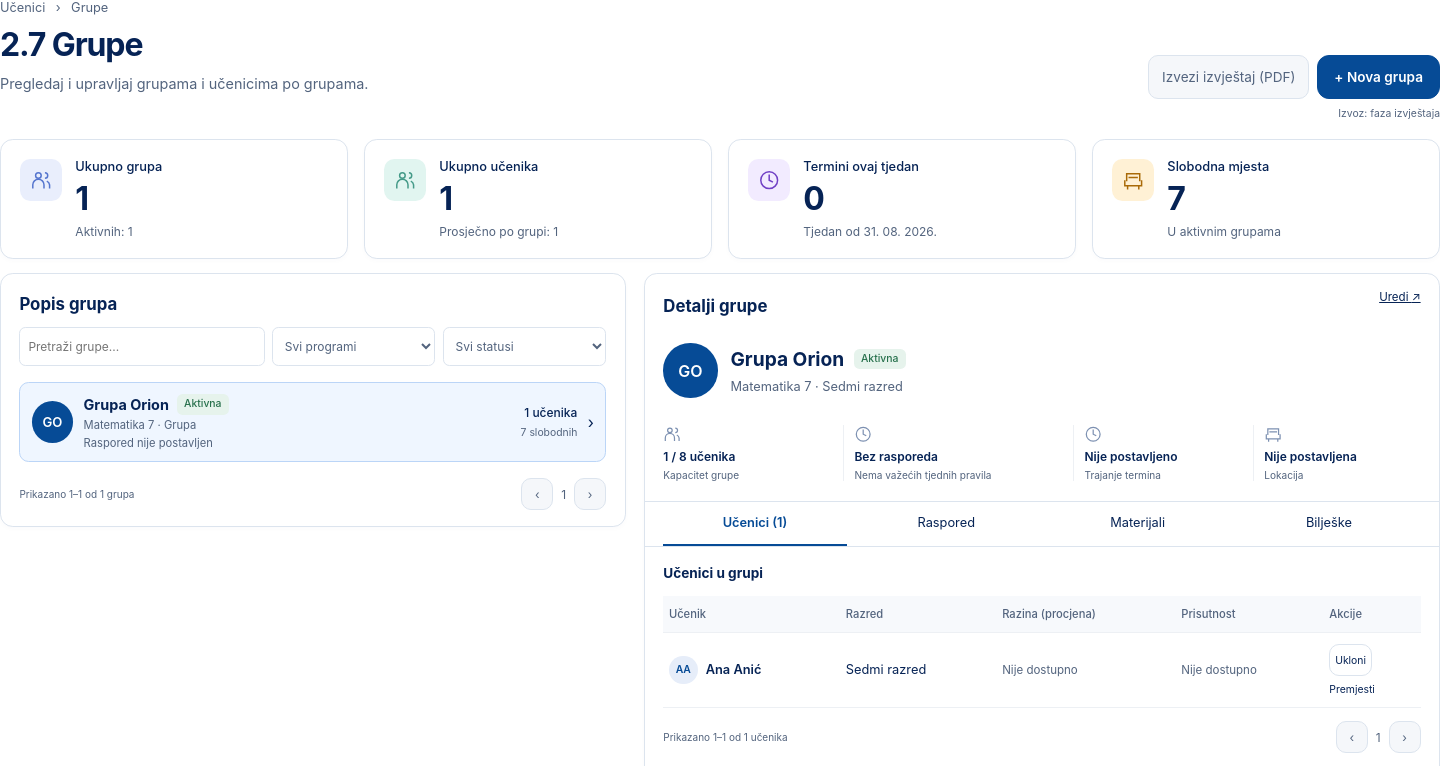
Test case: group screen › renders canonical regions, neutral metrics and existing dossier/edit links
Expected: the heading "2.7 Grupe" is shown, [0,25,142,64]
Expected: the heading "Popis grupa" is shown, [19,294,117,314]
Click the tab "Raspored": (946,524) [855,502,1038,546]
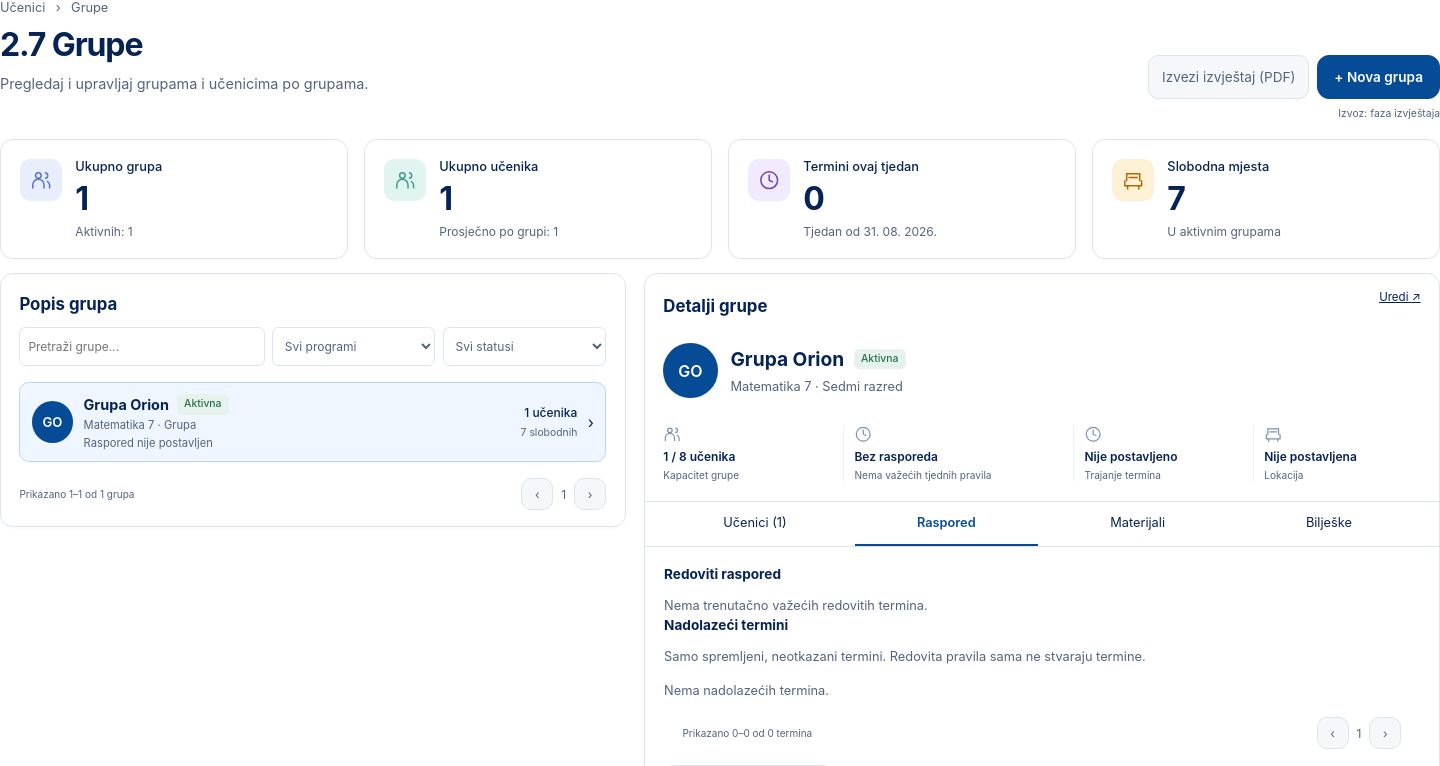
Expected: the text "Nema nadolazećih termina." is shown, [664,683,829,698]
Press ArrowRight in the tab "Raspored", box [855,502,1038,546]
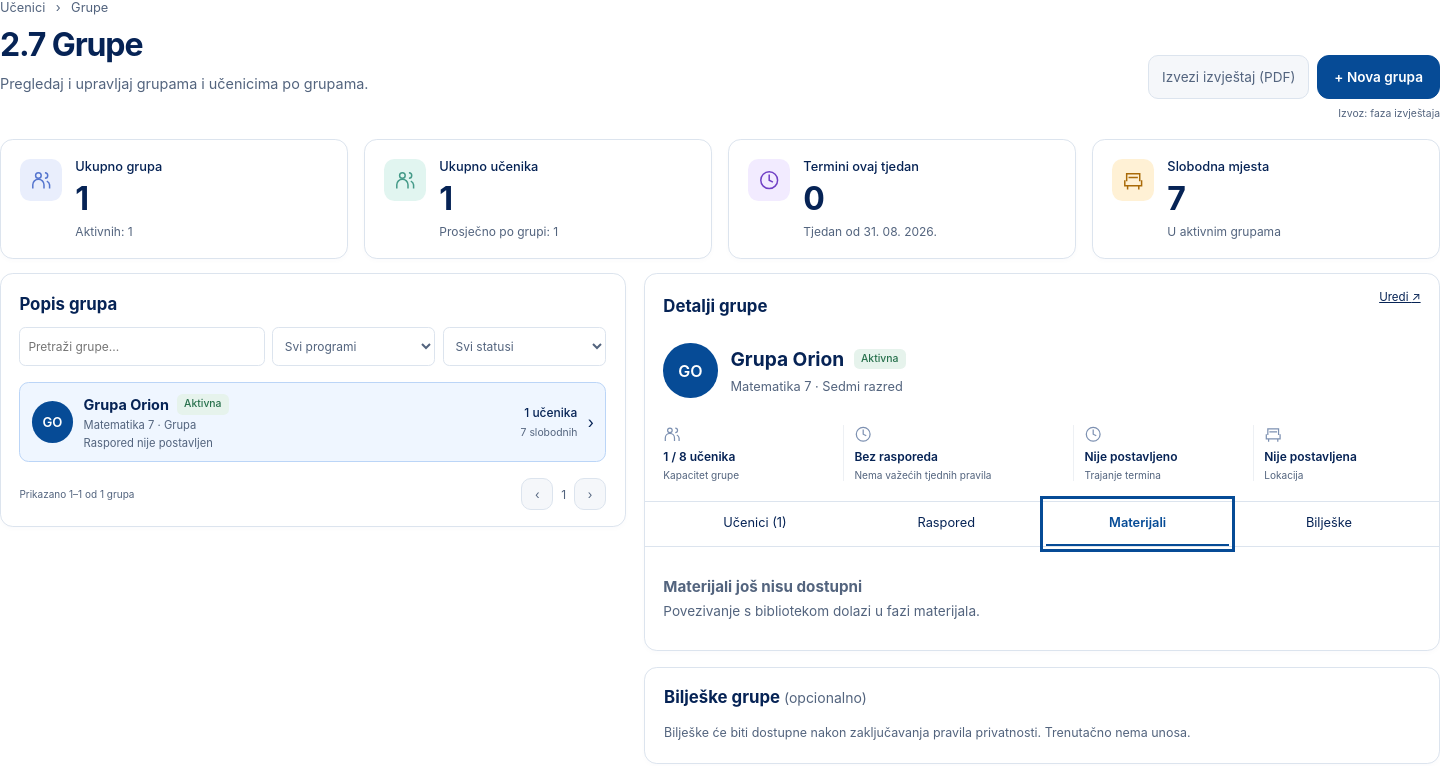
Expected: the heading "Materijali još nisu dostupni" is shown, [663,577,862,596]
